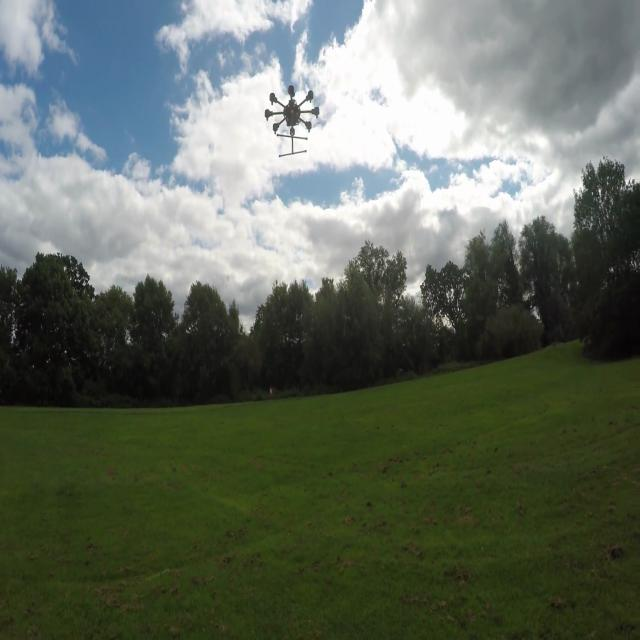drone: (262, 70, 324, 161)
